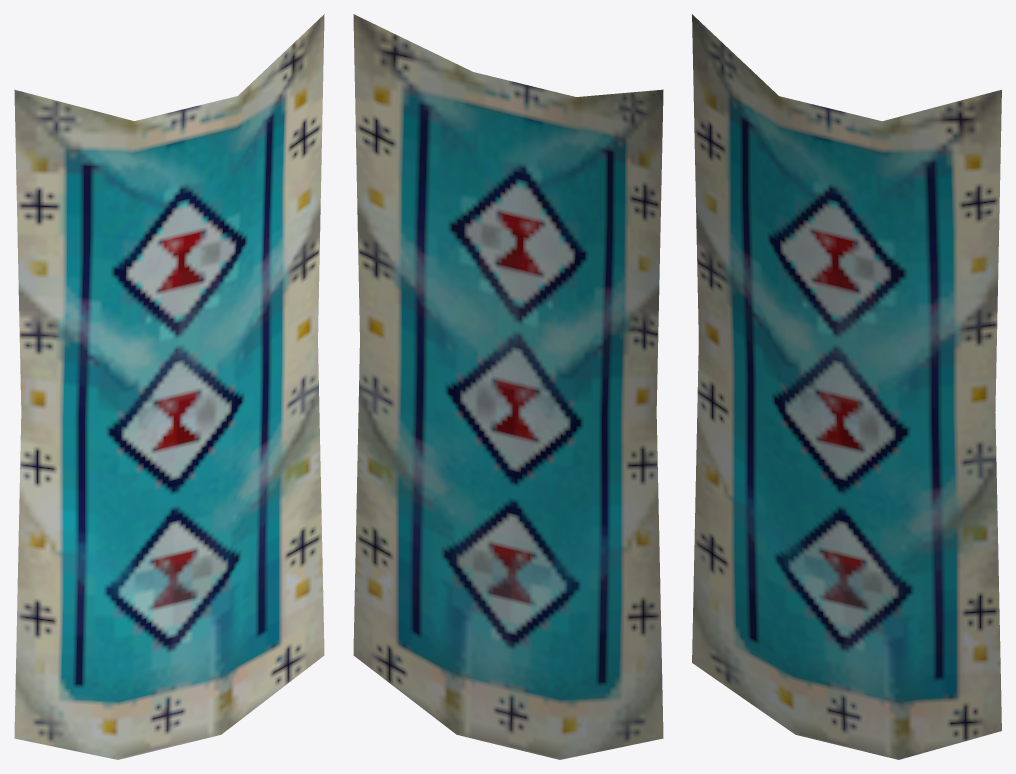
Rendered from PersianWallHanging04.glb.
3 views of the same model, side by side, from view 1: azimuth 30°, elevation 25°; view 2: azimuth 150°, elevation 25°; view 3: azimuth 330°, elevation 25° (orthographic).
Parts seen in each view (by area): view 1: PERSIANWALLHANGING04; view 2: PERSIANWALLHANGING04; view 3: PERSIANWALLHANGING04.
Part boxes in pixels (bbox=[...]): PERSIANWALLHANGING04: bbox=[14, 14, 324, 759]; PERSIANWALLHANGING04: bbox=[353, 14, 663, 759]; PERSIANWALLHANGING04: bbox=[692, 14, 1001, 759].
Size of the model in its own units: 1 by 2.14 by 0.092.
Materials: 1 (1 with a texture image).
